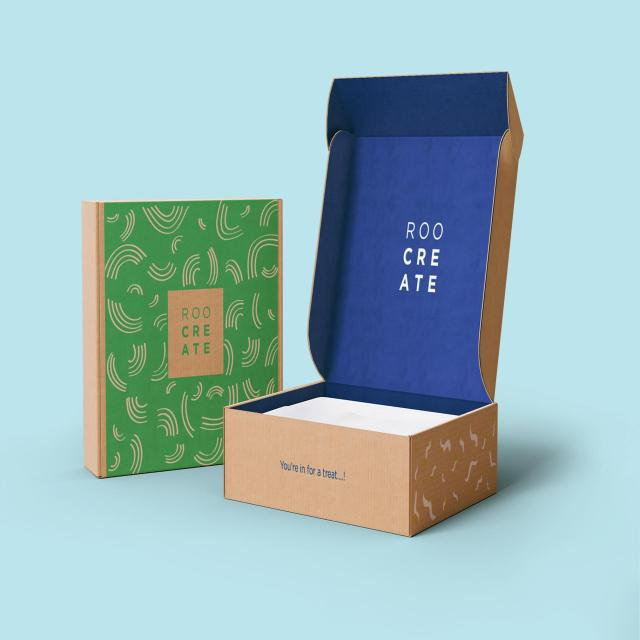Garbage: (224, 67, 525, 538)
Pathole: (81, 194, 283, 480)
